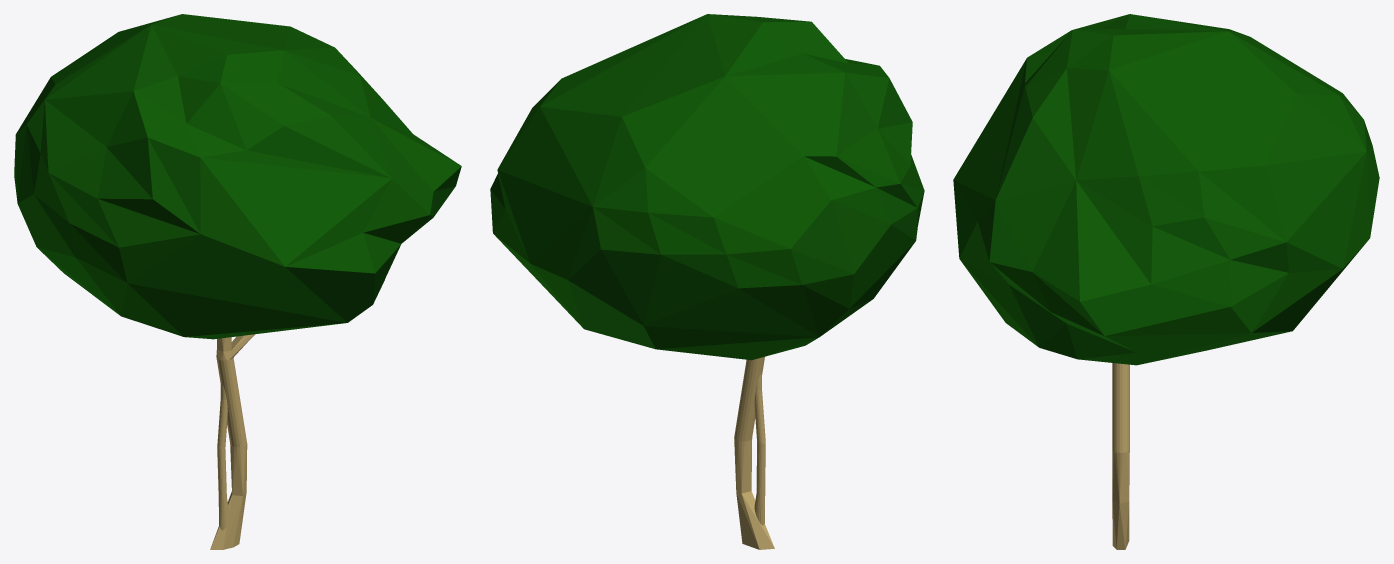
Rendered from low_poly_tree_2.FBX.
3 renders of one model, left to right at view 1: azimuth 30°, elevation 25°; view 2: azimuth 150°, elevation 25°; view 3: azimuth 270°, elevation 25°, orthographic. The views are drawn at different scales.
Visible parts, largest first — view 1: treepart2; view 2: treepart2; view 3: treepart2.
Boxes of the visible parts, bbox=[...] form: treepart2: bbox=[14, 14, 461, 549]; treepart2: bbox=[490, 14, 924, 549]; treepart2: bbox=[953, 14, 1379, 549].
Bounding box in the file's own units: 179 × 221 × 168.
